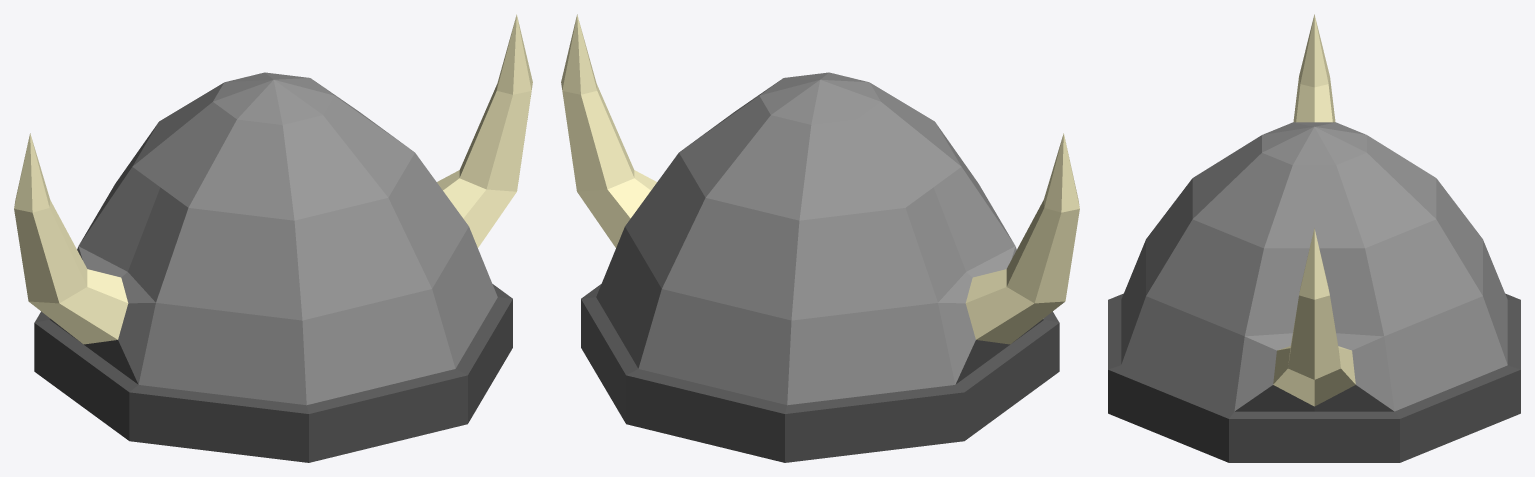
The model's file is pseudoVikingHelmet.fbx.
3 views of the same model, side by side, from view 1: azimuth 30°, elevation 25°; view 2: azimuth 150°, elevation 25°; view 3: azimuth 270°, elevation 25° (orthographic). The views are drawn at different scales.
Visible parts, largest first — view 1: pseudo viking helmet; view 2: pseudo viking helmet; view 3: pseudo viking helmet.
Part boxes in pixels (<box>): pseudo viking helmet: <box>14,14,532,462</box>; pseudo viking helmet: <box>561,14,1079,462</box>; pseudo viking helmet: <box>1108,14,1520,462</box>.
Bounding box in the file's own units: 103 × 55.34 × 79.14.
